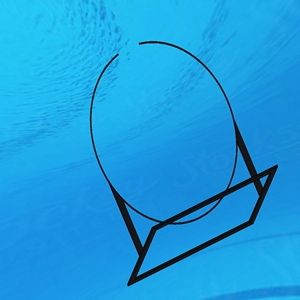circle: (88, 39, 280, 289)
